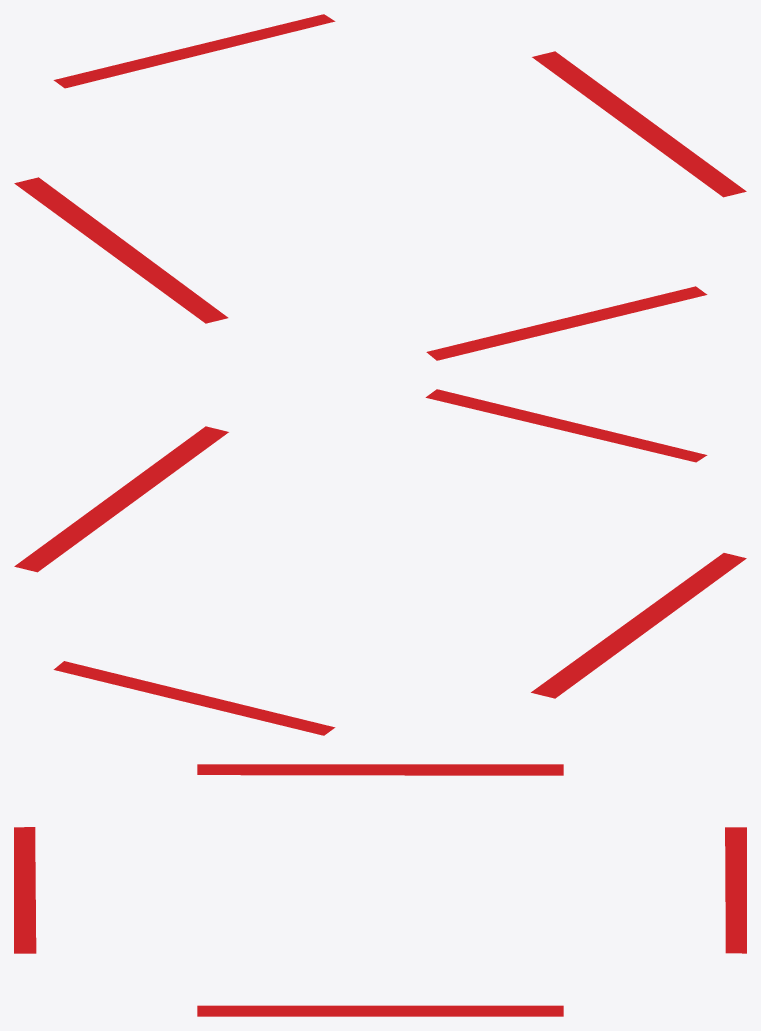
The model's file is ADSDGred.fbx.
The picture shows the model from 3 angles, top to bottom: view 1: azimuth 30°, elevation 25°; view 2: azimuth 150°, elevation 25°; view 3: azimuth 270°, elevation 25°; orthographic projection. The views are drawn at different scales.
Visible parts, largest first — view 1: DG; view 2: DG; view 3: DG.
Part boxes in pixels (box(x1,y1,x2,y2)): DG: box(14, 14, 746, 360); DG: box(14, 389, 746, 735); DG: box(14, 764, 746, 1016).
Size of the model in its own units: 224 by 0.254 by 274.
